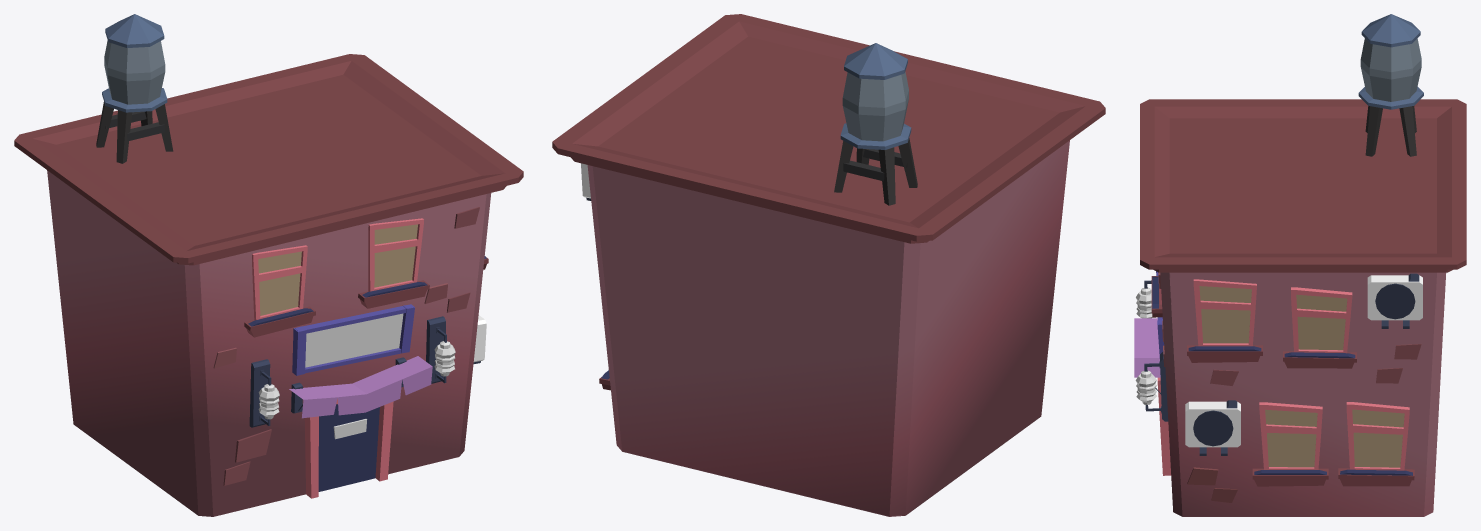
Rendered from building 7.fbx.
The picture shows the model from 3 angles, left to right: view 1: azimuth 30°, elevation 25°; view 2: azimuth 150°, elevation 25°; view 3: azimuth 270°, elevation 25°; orthographic projection. The views are drawn at different scales.
Parts seen in each view (by area): view 1: Cylinder.016, Cylinder.001, Circle.001, Cylinder.011, Cylinder.007, Cylinder.009, Cylinder.002, Cylinder.010, Cylinder.012, Cylinder.015, Cylinder.014; view 2: Cylinder.001, Cylinder.016, Circle.001; view 3: Cylinder.016, Cylinder.001, Circle.001, Cylinder.005, Cylinder.006, Cylinder.003, Cylinder.004.
Part boxes in pixels (bbox=[...]): Cylinder.016: bbox=[14, 54, 523, 498]; Cylinder.001: bbox=[47, 170, 491, 516]; Circle.001: bbox=[96, 14, 173, 163]; Cylinder.011: bbox=[305, 313, 403, 367]; Cylinder.007: bbox=[374, 224, 417, 287]; Cylinder.009: bbox=[258, 251, 301, 315]; Cylinder.002: bbox=[368, 218, 423, 291]; Cylinder.010: bbox=[252, 245, 307, 320]; Cylinder.012: bbox=[295, 304, 414, 333]; Cylinder.015: bbox=[292, 326, 306, 375]; Cylinder.014: bbox=[305, 348, 401, 373]; Cylinder.001: bbox=[587, 140, 1069, 516]; Cylinder.016: bbox=[552, 14, 1105, 390]; Circle.001: bbox=[834, 43, 917, 205]; Cylinder.016: bbox=[1134, 99, 1466, 502]; Cylinder.001: bbox=[1160, 272, 1446, 516]; Circle.001: bbox=[1358, 14, 1423, 156]; Cylinder.005: bbox=[1199, 286, 1251, 343]; Cylinder.006: bbox=[1296, 294, 1347, 350]; Cylinder.003: bbox=[1193, 279, 1256, 346]; Cylinder.004: bbox=[1291, 287, 1352, 353].
Bounding box in the file's own units: 4655 × 5236 × 3951.
Materials: 18 (1 with a texture image).
